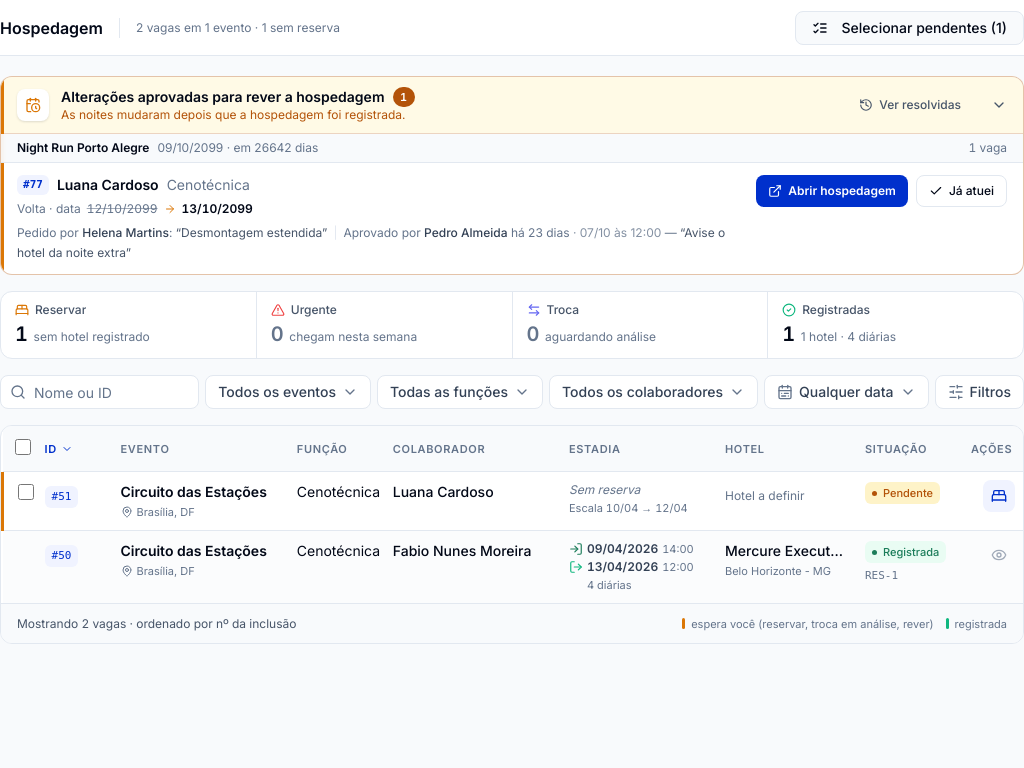
Test: Hospedagem — avisos de alteração para Compras › aviso de prova fora do recorte: o filtro passa para a prova do aviso e o modal abre quando a vaga chega
Click the button "Abrir hospedagem". click: (832, 191)
box: left=756, top=175, right=908, bottom=207
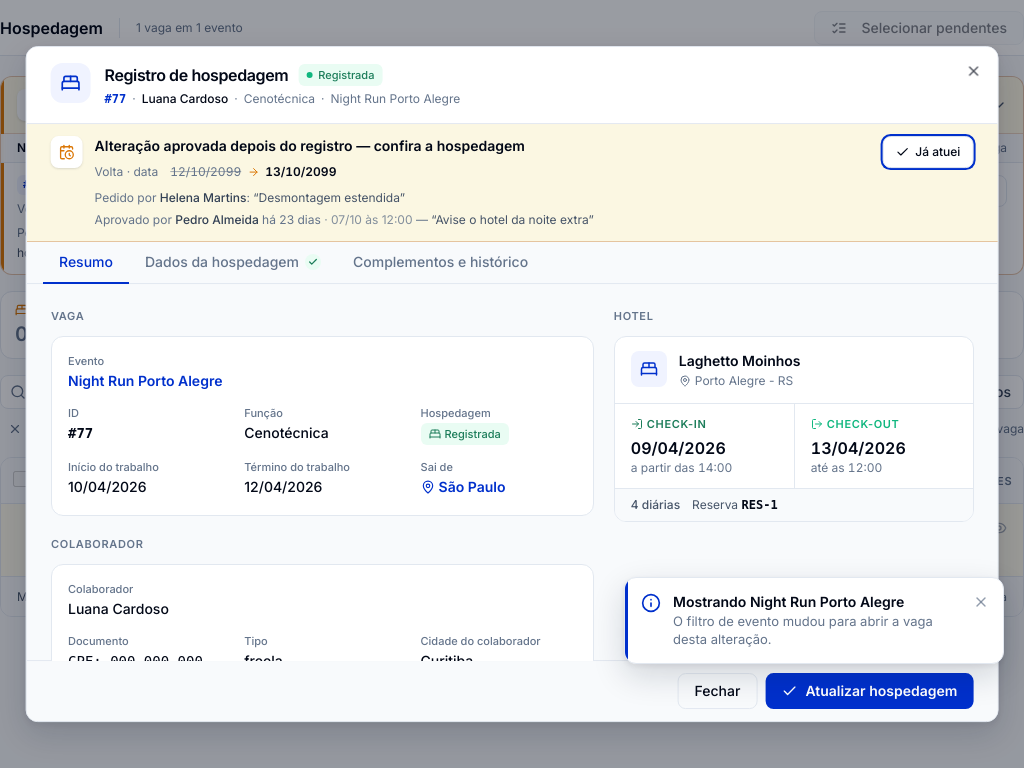
Result: the dialog "Registro de hospedagem" shows "#77"
